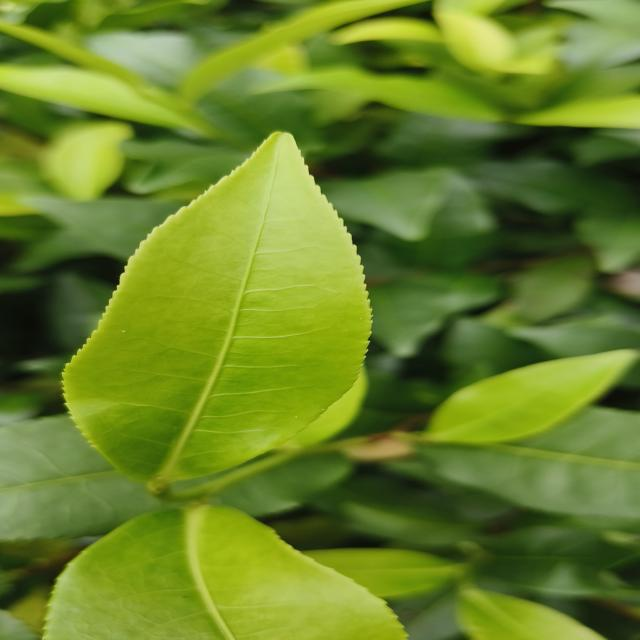Leaf: (64, 133, 370, 481), (45, 505, 405, 640), (421, 407, 640, 520), (180, 0, 421, 102), (0, 414, 174, 541), (428, 349, 638, 444), (0, 64, 204, 131), (265, 68, 502, 121), (369, 273, 499, 357), (483, 526, 629, 598), (26, 197, 178, 261), (321, 169, 446, 241), (218, 453, 352, 517), (304, 548, 461, 600), (458, 587, 604, 640), (477, 159, 612, 214), (42, 121, 133, 201), (513, 255, 593, 322), (436, 11, 515, 71), (515, 94, 640, 128)
